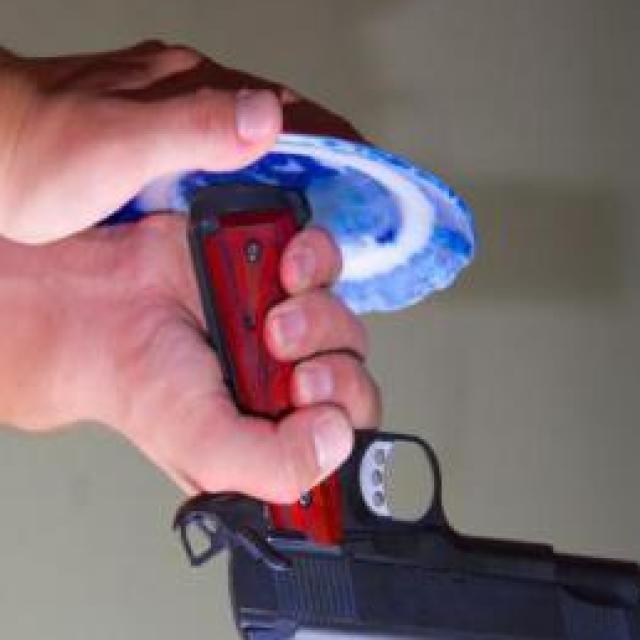pistol: (171, 164, 640, 640)
